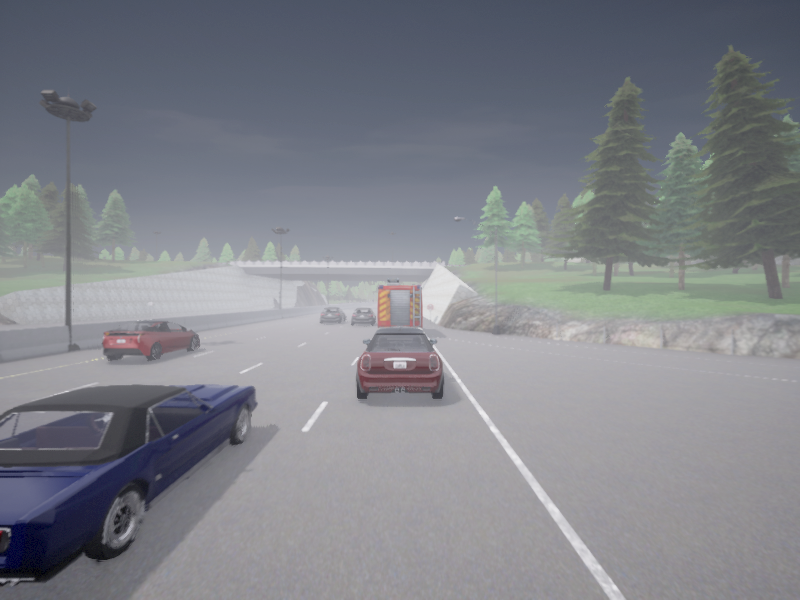vehicle: (0, 385, 257, 586), (356, 326, 443, 398), (102, 321, 198, 360), (378, 278, 422, 327), (351, 308, 376, 324), (320, 307, 345, 323)
